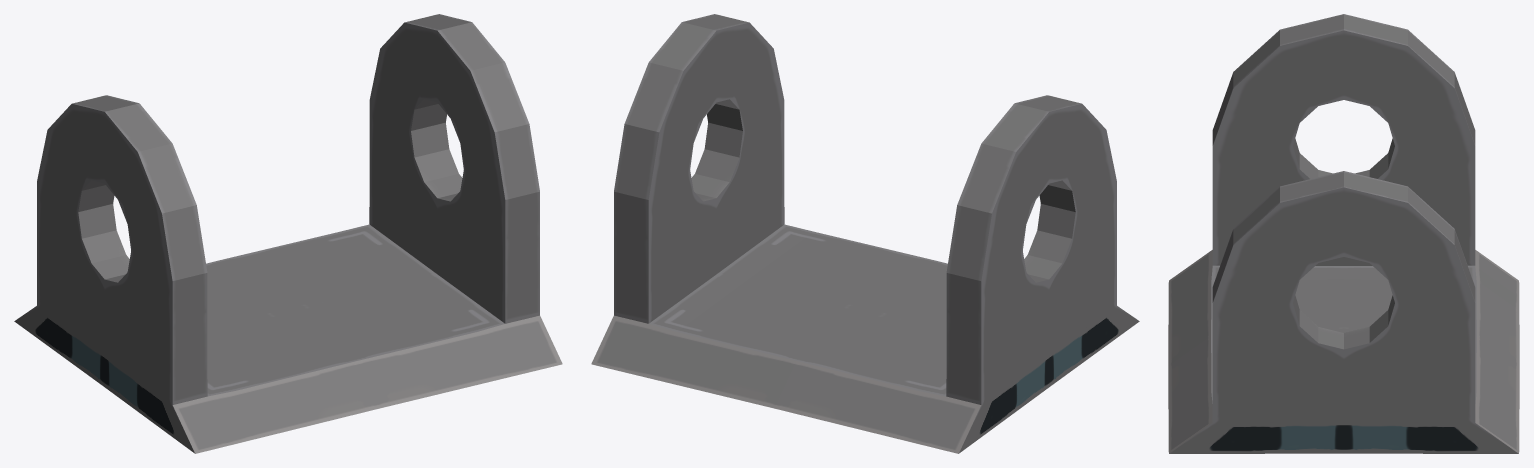
File: HybridTech01.fbx
3 renders of one model, left to right at view 1: azimuth 30°, elevation 25°; view 2: azimuth 150°, elevation 25°; view 3: azimuth 270°, elevation 25°, orthographic. The views are drawn at different scales.
Parts seen in each view (by area): view 1: HybridHinge011; view 2: HybridHinge011; view 3: HybridHinge011.
Part boxes in pixels (x1,y1,x2,y2): HybridHinge011: [14, 14, 562, 453]; HybridHinge011: [591, 14, 1139, 453]; HybridHinge011: [1168, 14, 1519, 453].
Bounding box in the file's own units: 32.11 × 23.03 × 27.53.
